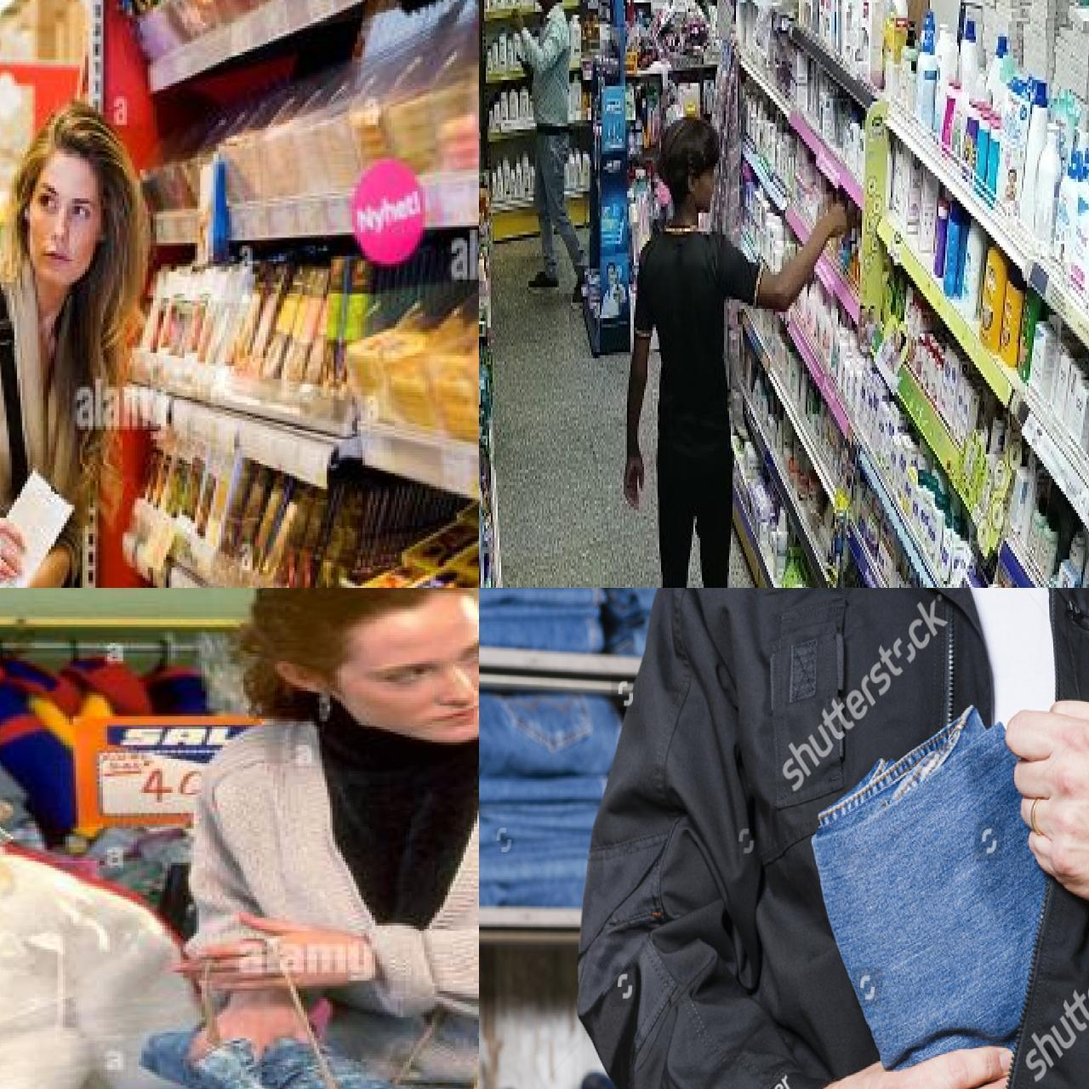shoplifting: (610, 645, 1089, 1089)
